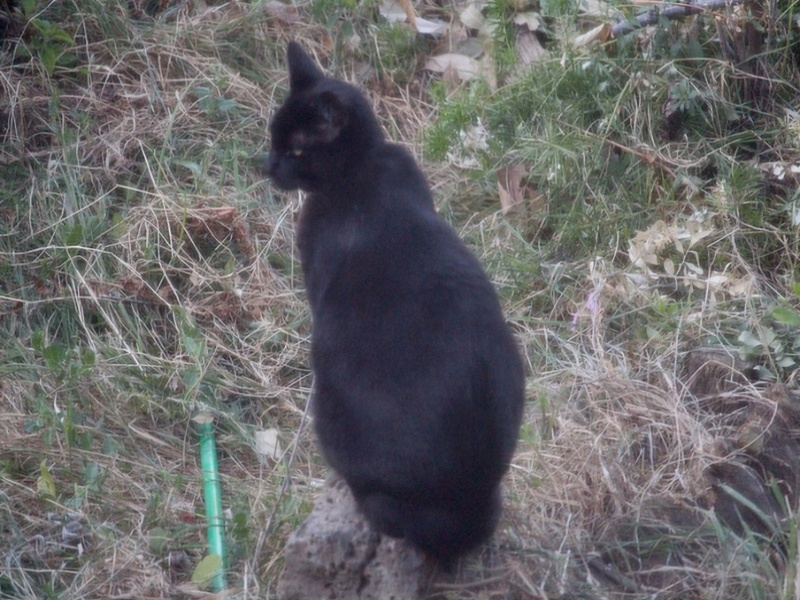cat: (264, 44, 527, 561)
